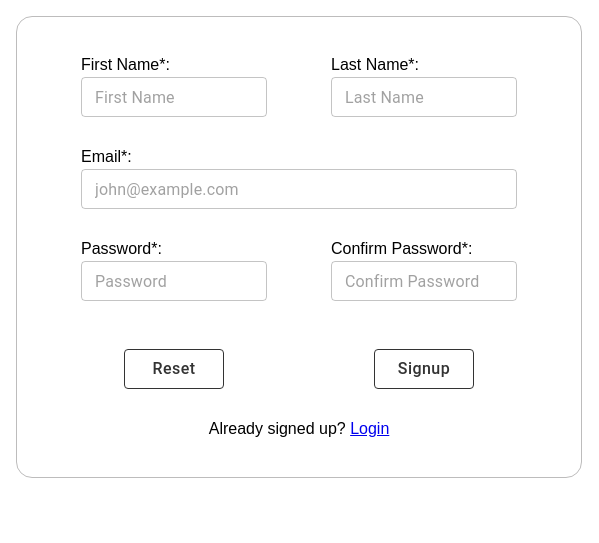
Scenario: Signup Form › Displays error when passwords do not match
Type "password123" into the field with placeholder "Password" at x=174, y=281, box [81,261,267,301]
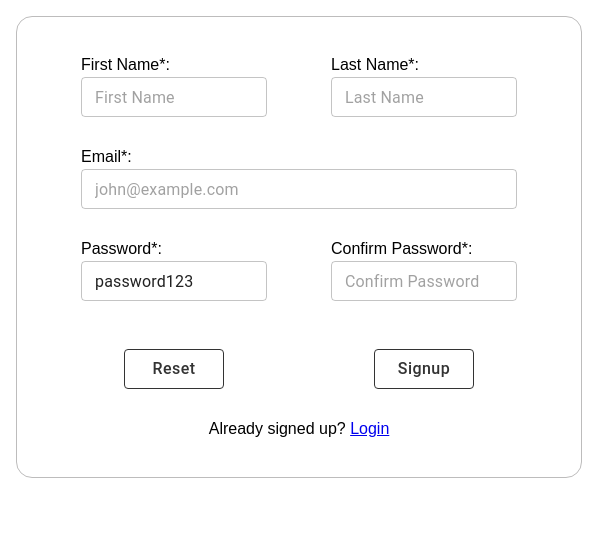
Type "password456" into the field with placeholder "Confirm Password" at x=424, y=281, box [331,261,517,301]
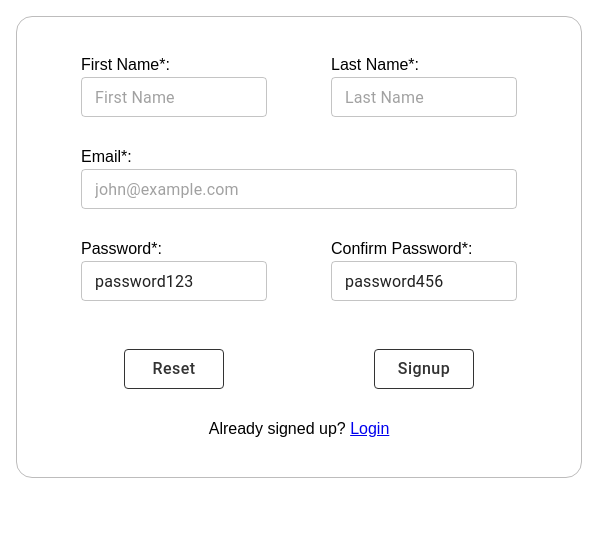
Click the button "Signup" at x=424, y=369, box [374,349,474,389]
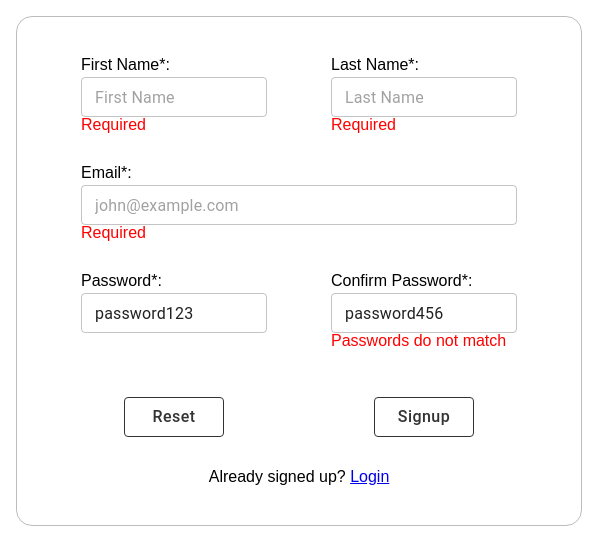
Now the text "Passwords do not match" is shown, box [331,333,517,349]
